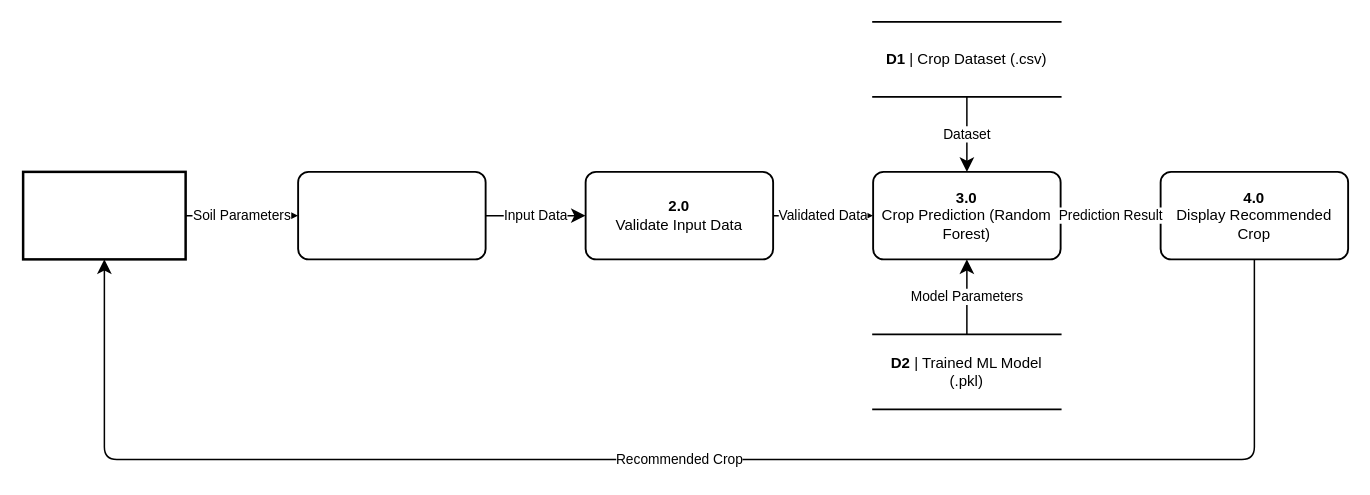
This 1370x495 diagram has some shape labels left out. Here are the shapes that lost their labels. From the top down, the centre of each, then its label:
At [103,215]: "Farmer (External Entity)".
At [391,215]: "1.0 Input Soil & Environmental Parameters".
